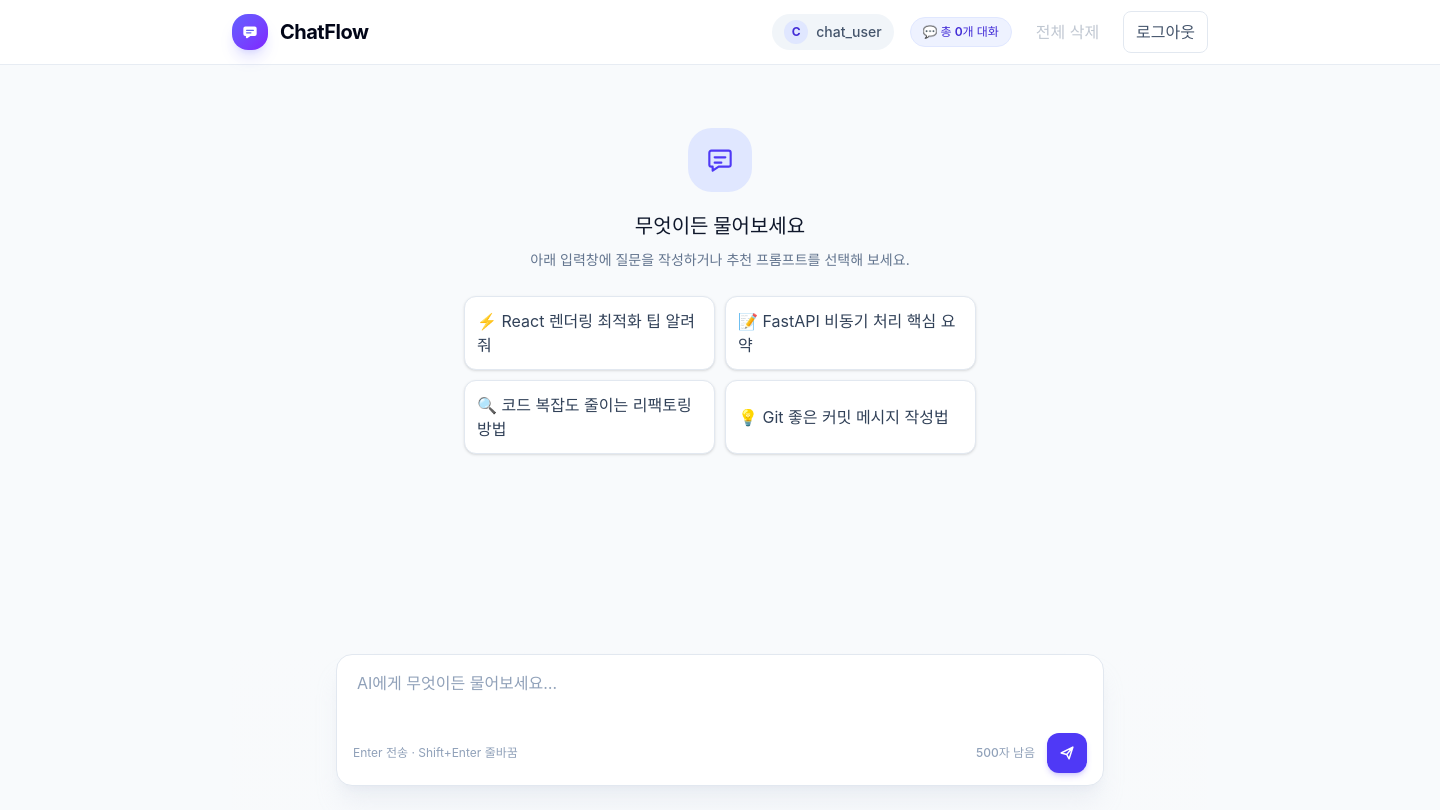
Test: ChatFlow application › 보호 API의 401 응답으로 세션을 종료한다
Expected: the heading "무엇이든 물어보세요" is shown, [635,212,805,240]
In the text box named "AI에게 보낼 질문": (720, 695) [345,663,1095,727], type "질문"
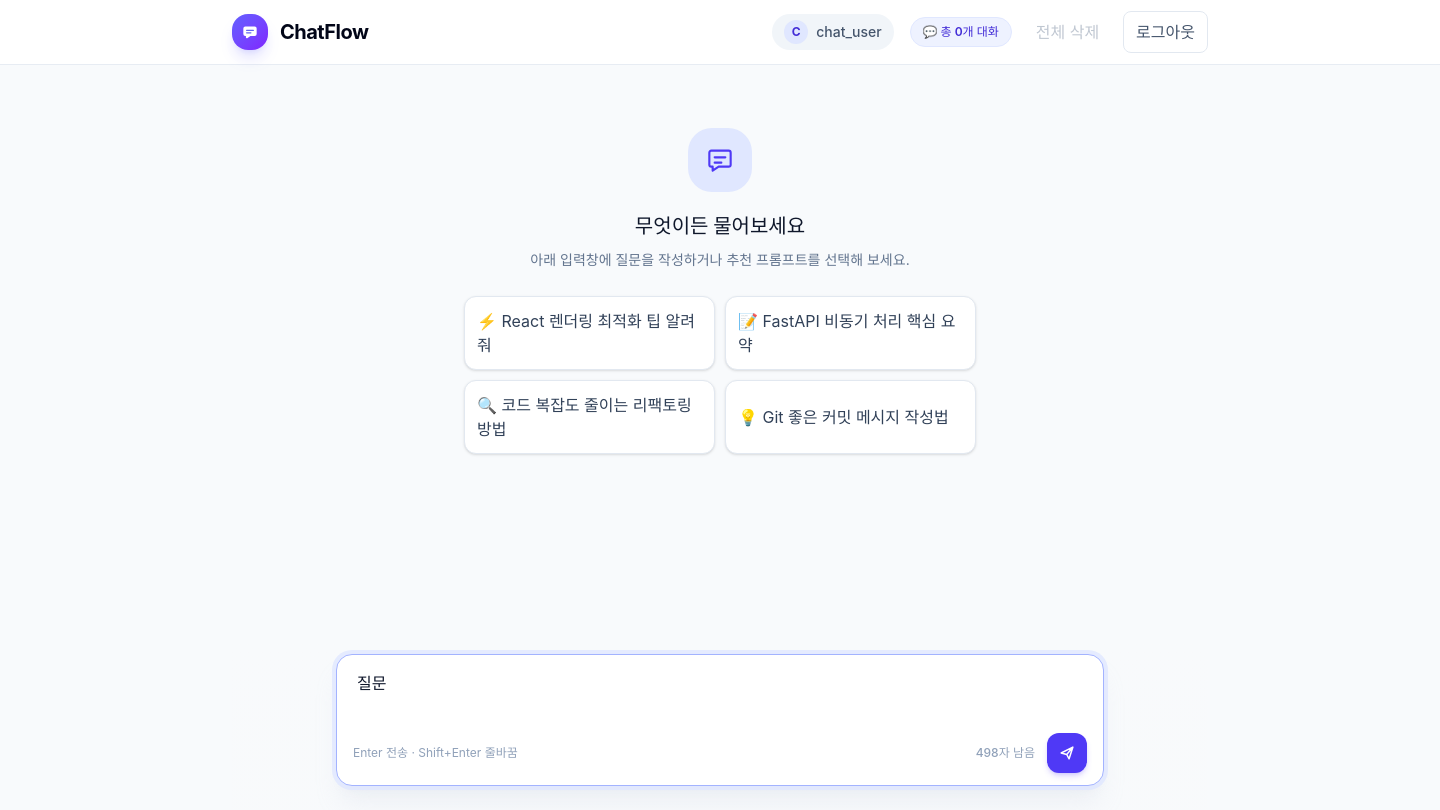
Click the button named "질문 전송": (1067, 753) [1047,733,1087,773]
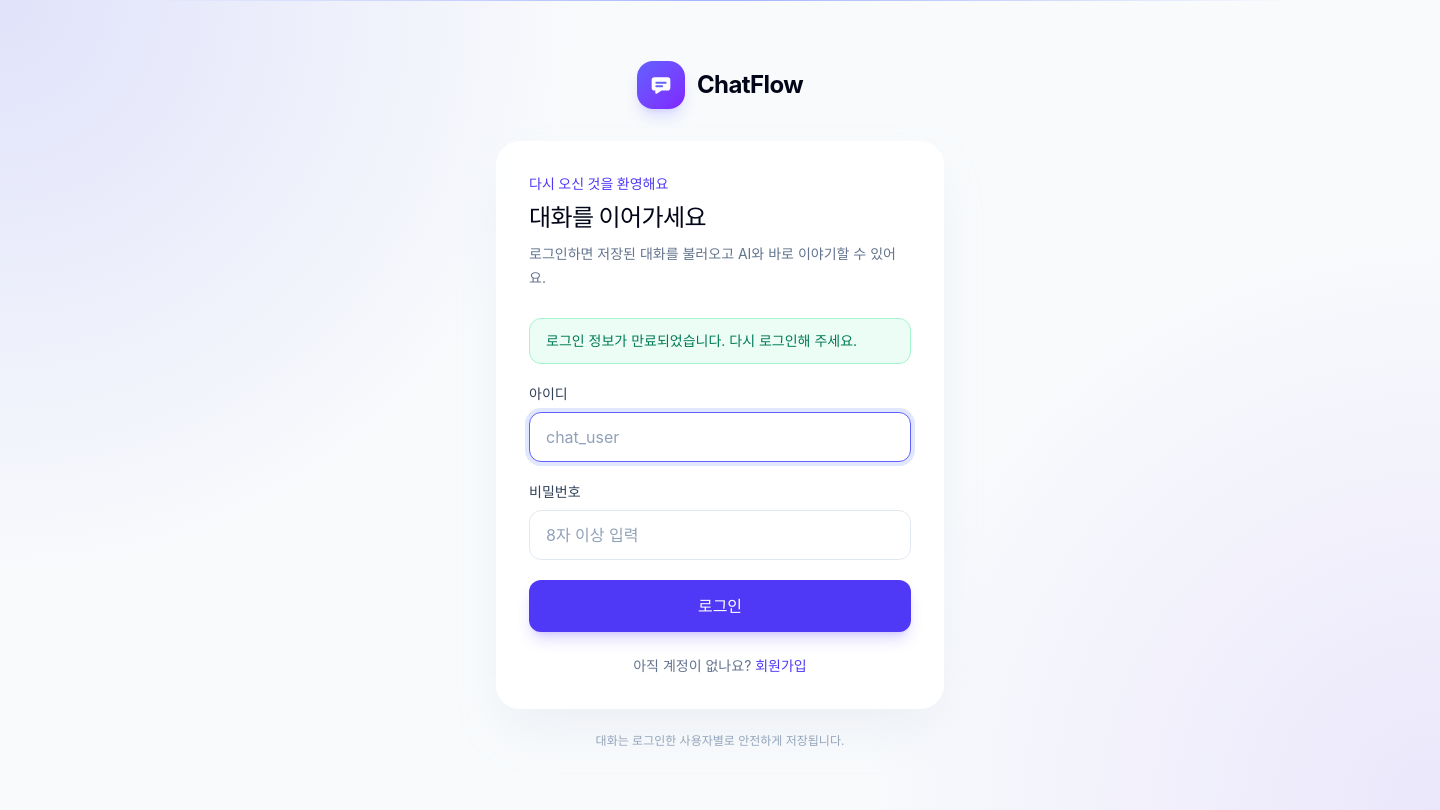
Expected: the text "로그인 정보가 만료되었습니다. 다시 로그인해 주세요." is shown, [529,318,911,364]
